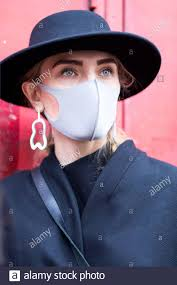with-mask: (25, 12, 134, 156)
